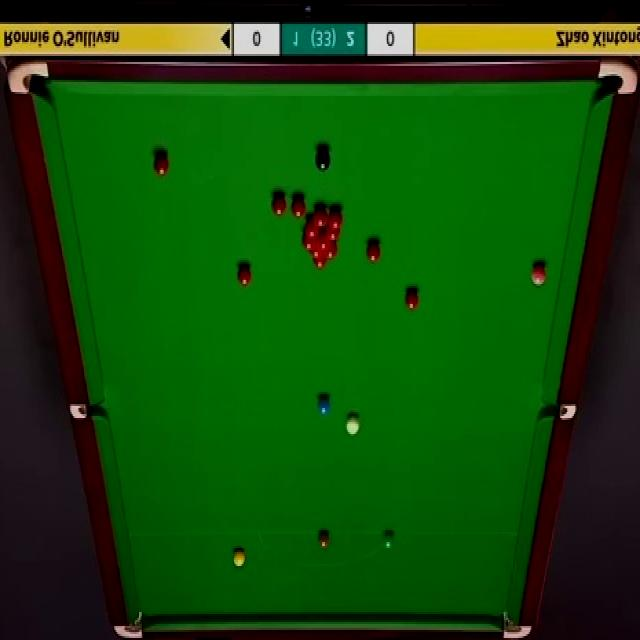black-ball: (315, 147, 331, 173)
blue-ball: (317, 398, 330, 416)
brown-ball: (317, 531, 330, 548)
green-ball: (382, 528, 396, 552)
pink-ball: (530, 263, 547, 287)
red-ball: (152, 150, 169, 176), (365, 238, 381, 264), (272, 193, 286, 220), (238, 262, 252, 287), (290, 193, 304, 218), (314, 207, 329, 228), (318, 229, 332, 251), (305, 217, 318, 240), (405, 288, 418, 311), (328, 208, 342, 228), (301, 233, 317, 250), (323, 241, 337, 260), (326, 224, 341, 240), (308, 248, 324, 260), (313, 259, 328, 271)
white-ball: (345, 413, 361, 437)
yellow-ball: (232, 548, 246, 568)
